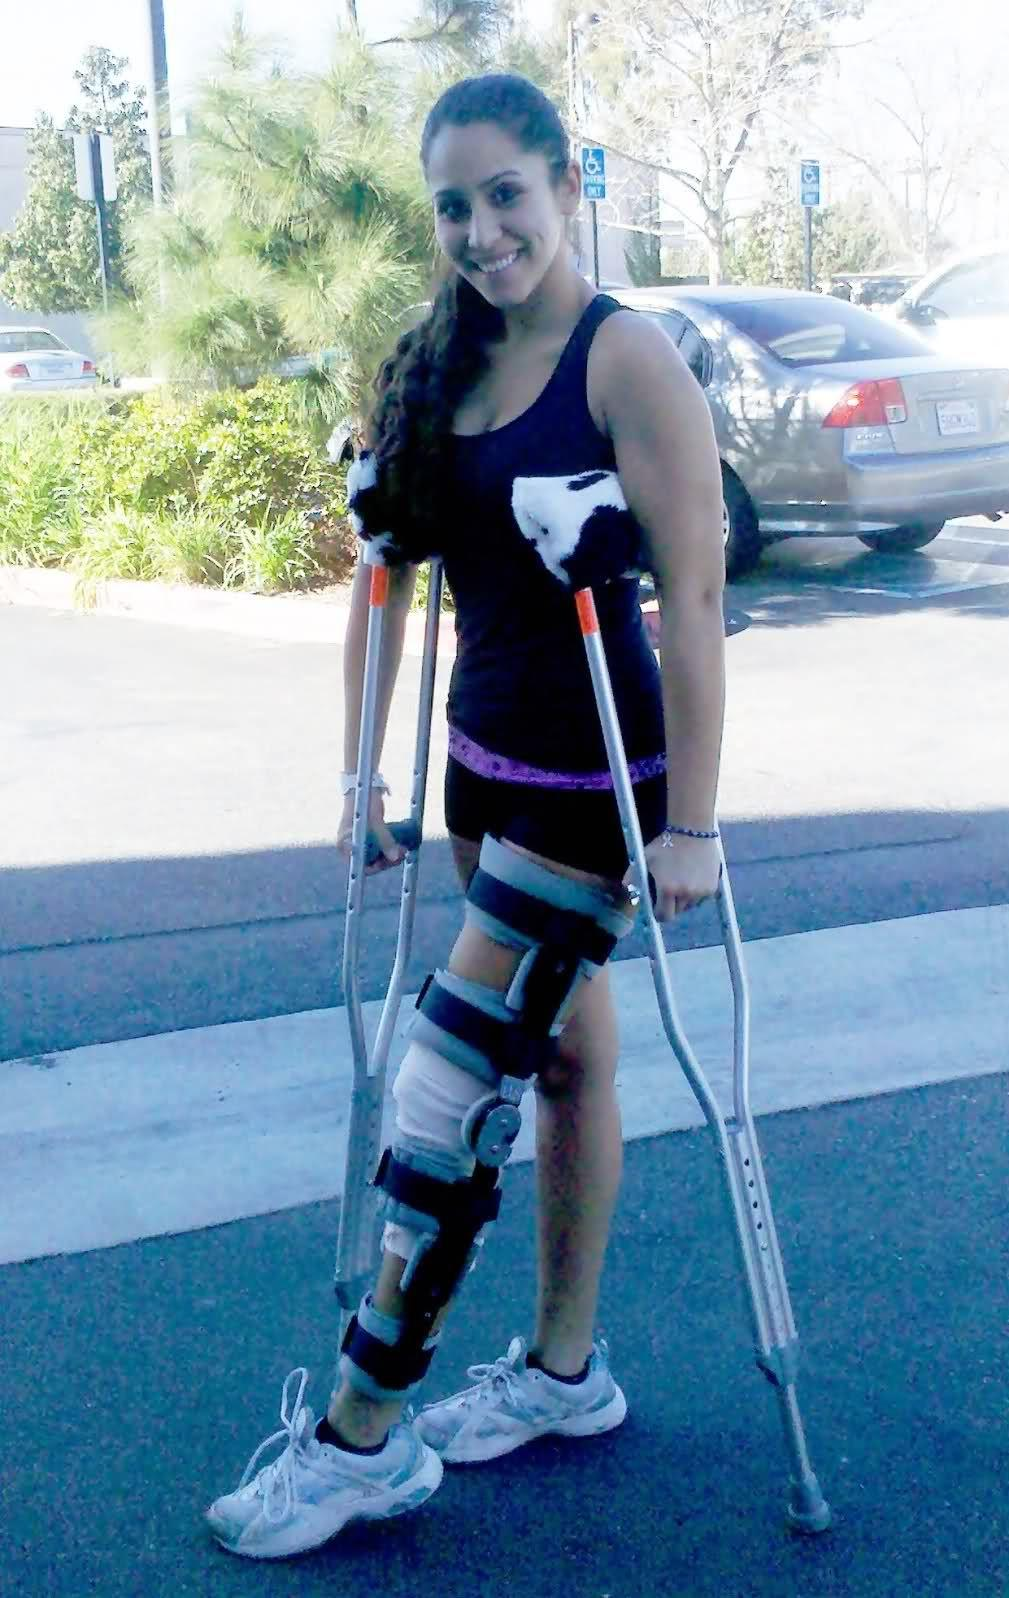crutches: (205, 73, 837, 1562)
